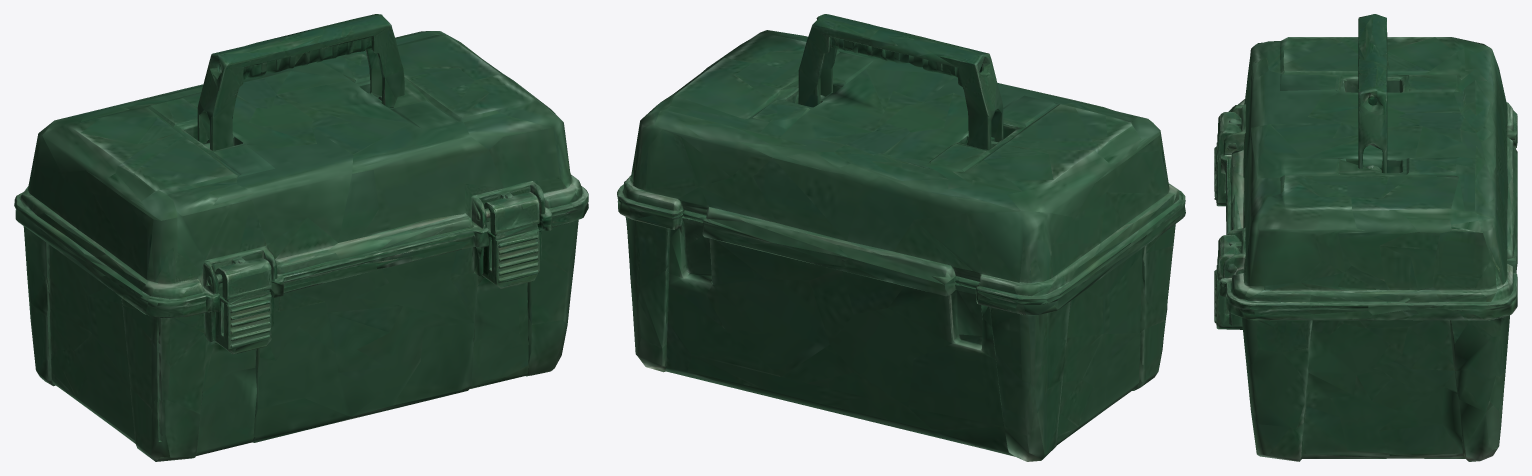
The model's file is tackle-box.glb.
3 views of the same model, side by side, from view 1: azimuth 30°, elevation 25°; view 2: azimuth 150°, elevation 25°; view 3: azimuth 270°, elevation 25° (orthographic). The views are drawn at different scales.
Bounding box in the file's own units: 1.9 × 1.4 × 1.2.
1 material, 1 textured.
